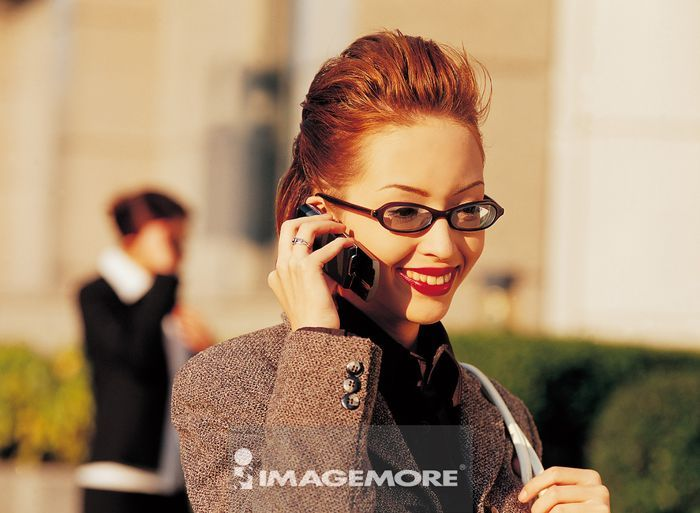phone: (298, 203, 381, 301)
talk: (267, 177, 489, 329)
